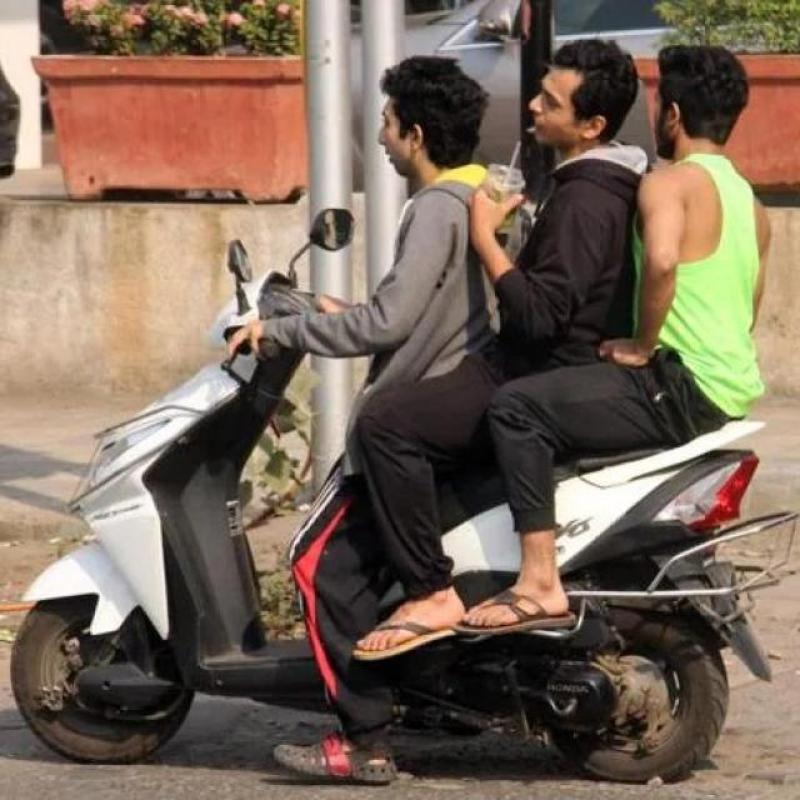nohelmet: (516, 27, 640, 171), (364, 47, 494, 176), (641, 31, 745, 159)
